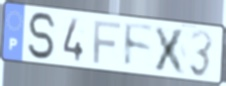3: (188, 28, 217, 79)
4: (62, 16, 86, 64)
F: (123, 20, 155, 70), (92, 19, 122, 65)
S: (26, 11, 59, 62)
X: (152, 24, 188, 76)
